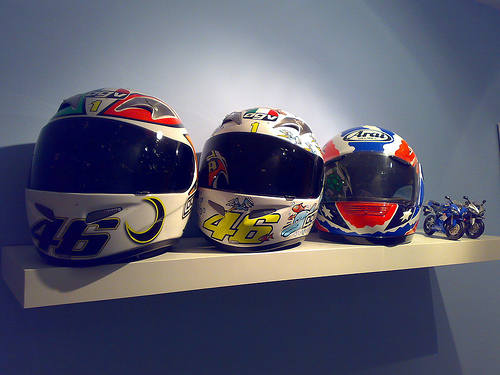helmet: (33, 90, 196, 264), (196, 96, 321, 258), (316, 125, 426, 245)
